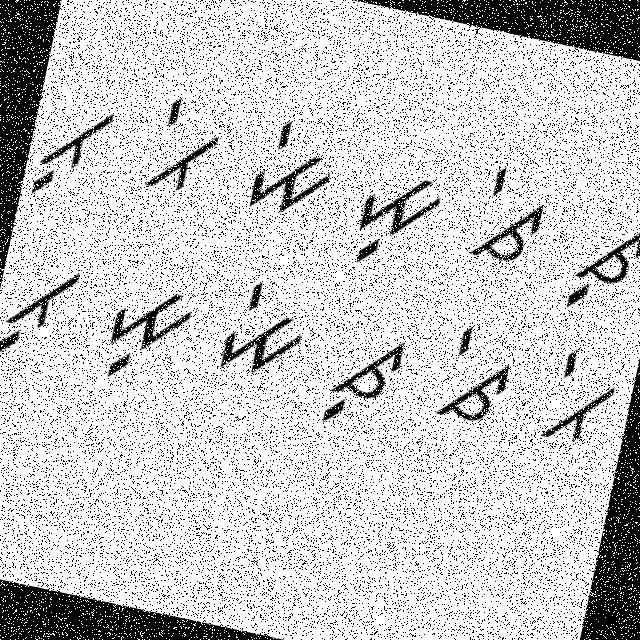be: (533, 336, 626, 461), (139, 88, 227, 204)
bu: (26, 90, 118, 210), (0, 252, 86, 374)
ce: (460, 160, 557, 284), (427, 316, 520, 436)
cu: (314, 316, 412, 438), (550, 196, 639, 328)
me: (202, 266, 320, 396), (232, 107, 351, 228)
mu: (86, 272, 200, 409), (337, 150, 449, 280)
